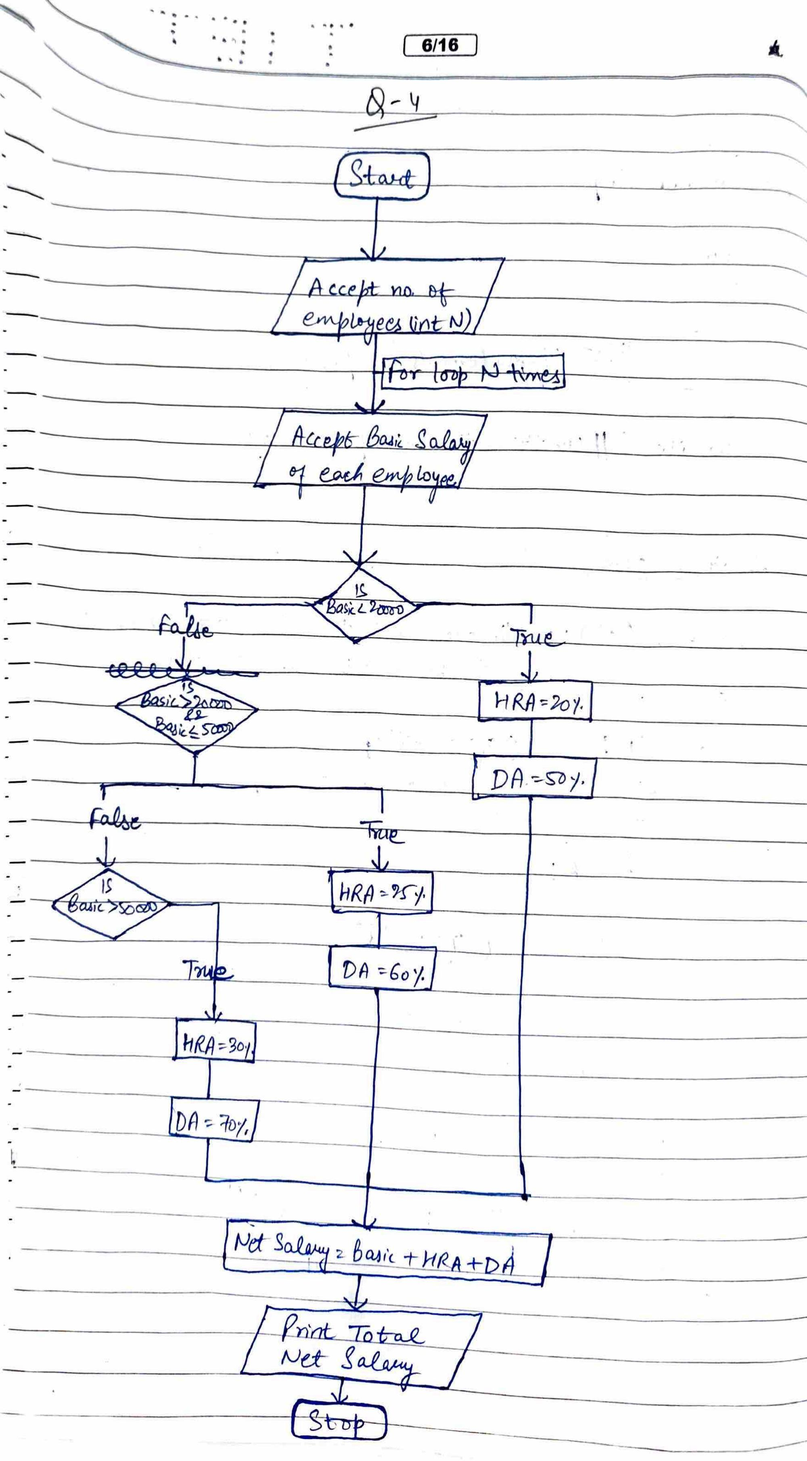cuttings: (106, 661, 262, 683)
